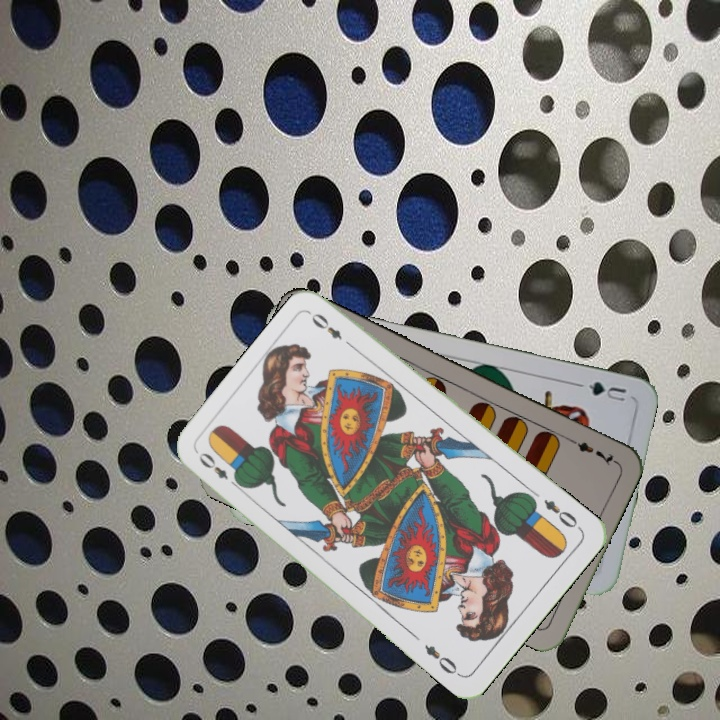E7: (563, 433, 619, 469)
EO: (194, 448, 244, 492), (539, 495, 584, 533)
GU: (584, 377, 629, 404)
